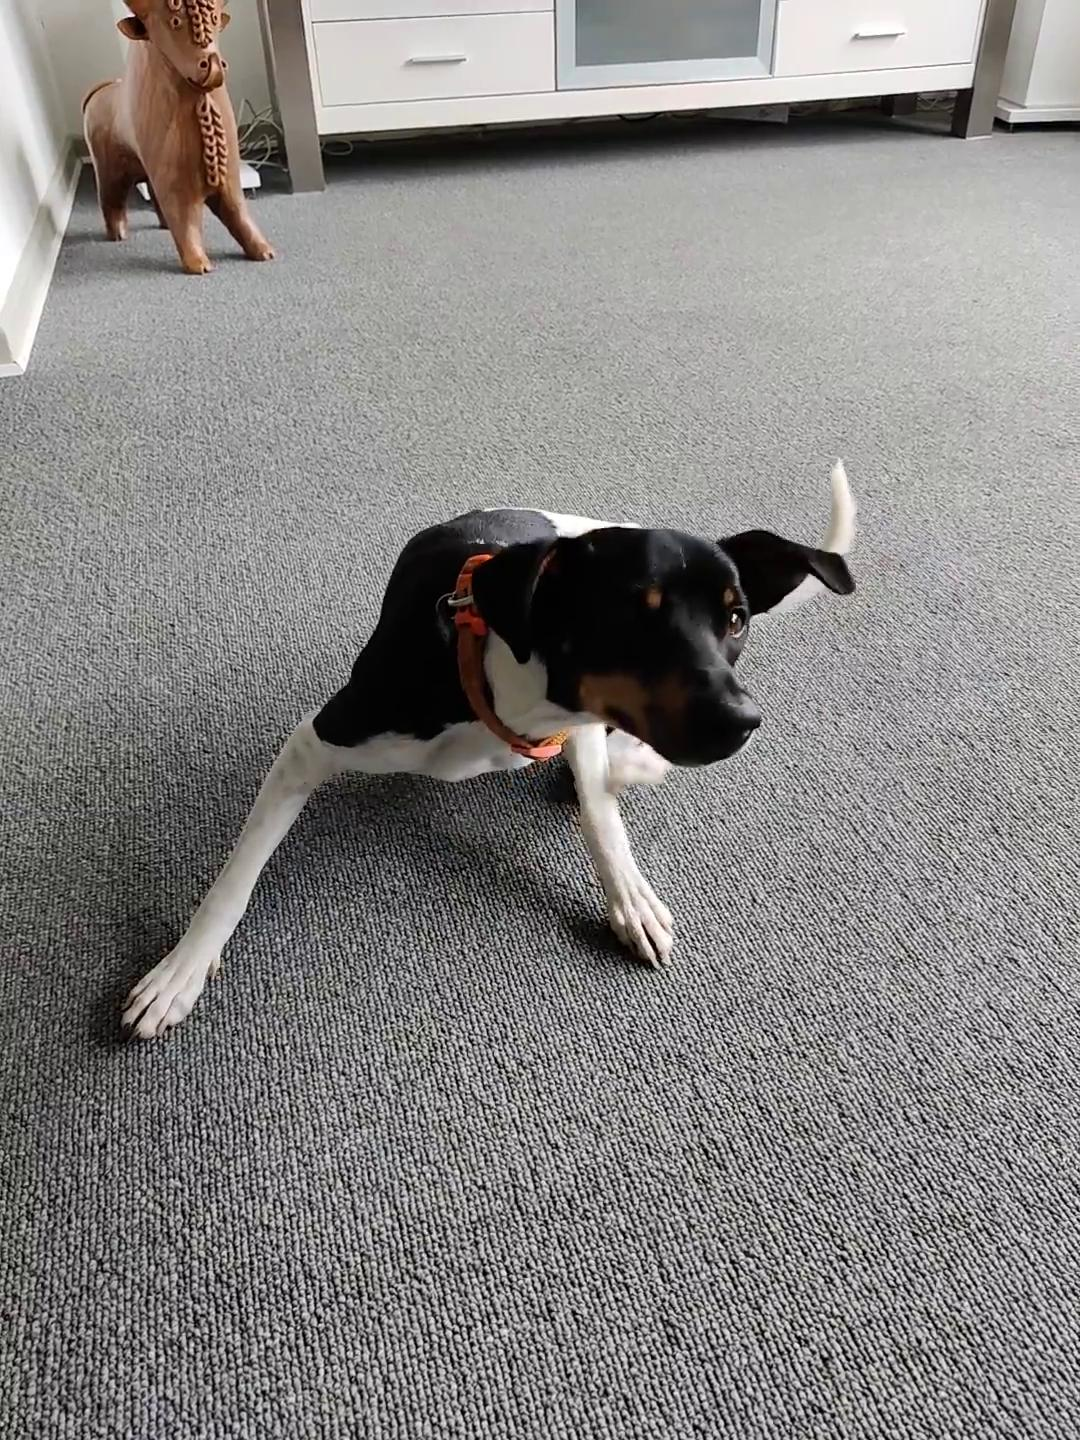Dog: (120, 449, 863, 1051)
